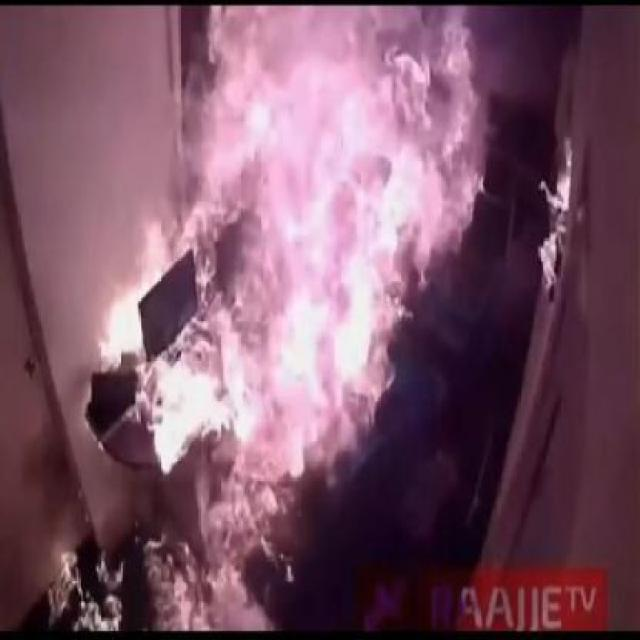Fire: (174, 0, 500, 223), (212, 217, 420, 446), (48, 552, 277, 632), (188, 468, 294, 548), (143, 362, 220, 468), (545, 141, 573, 297), (99, 280, 144, 368), (144, 214, 170, 280)
